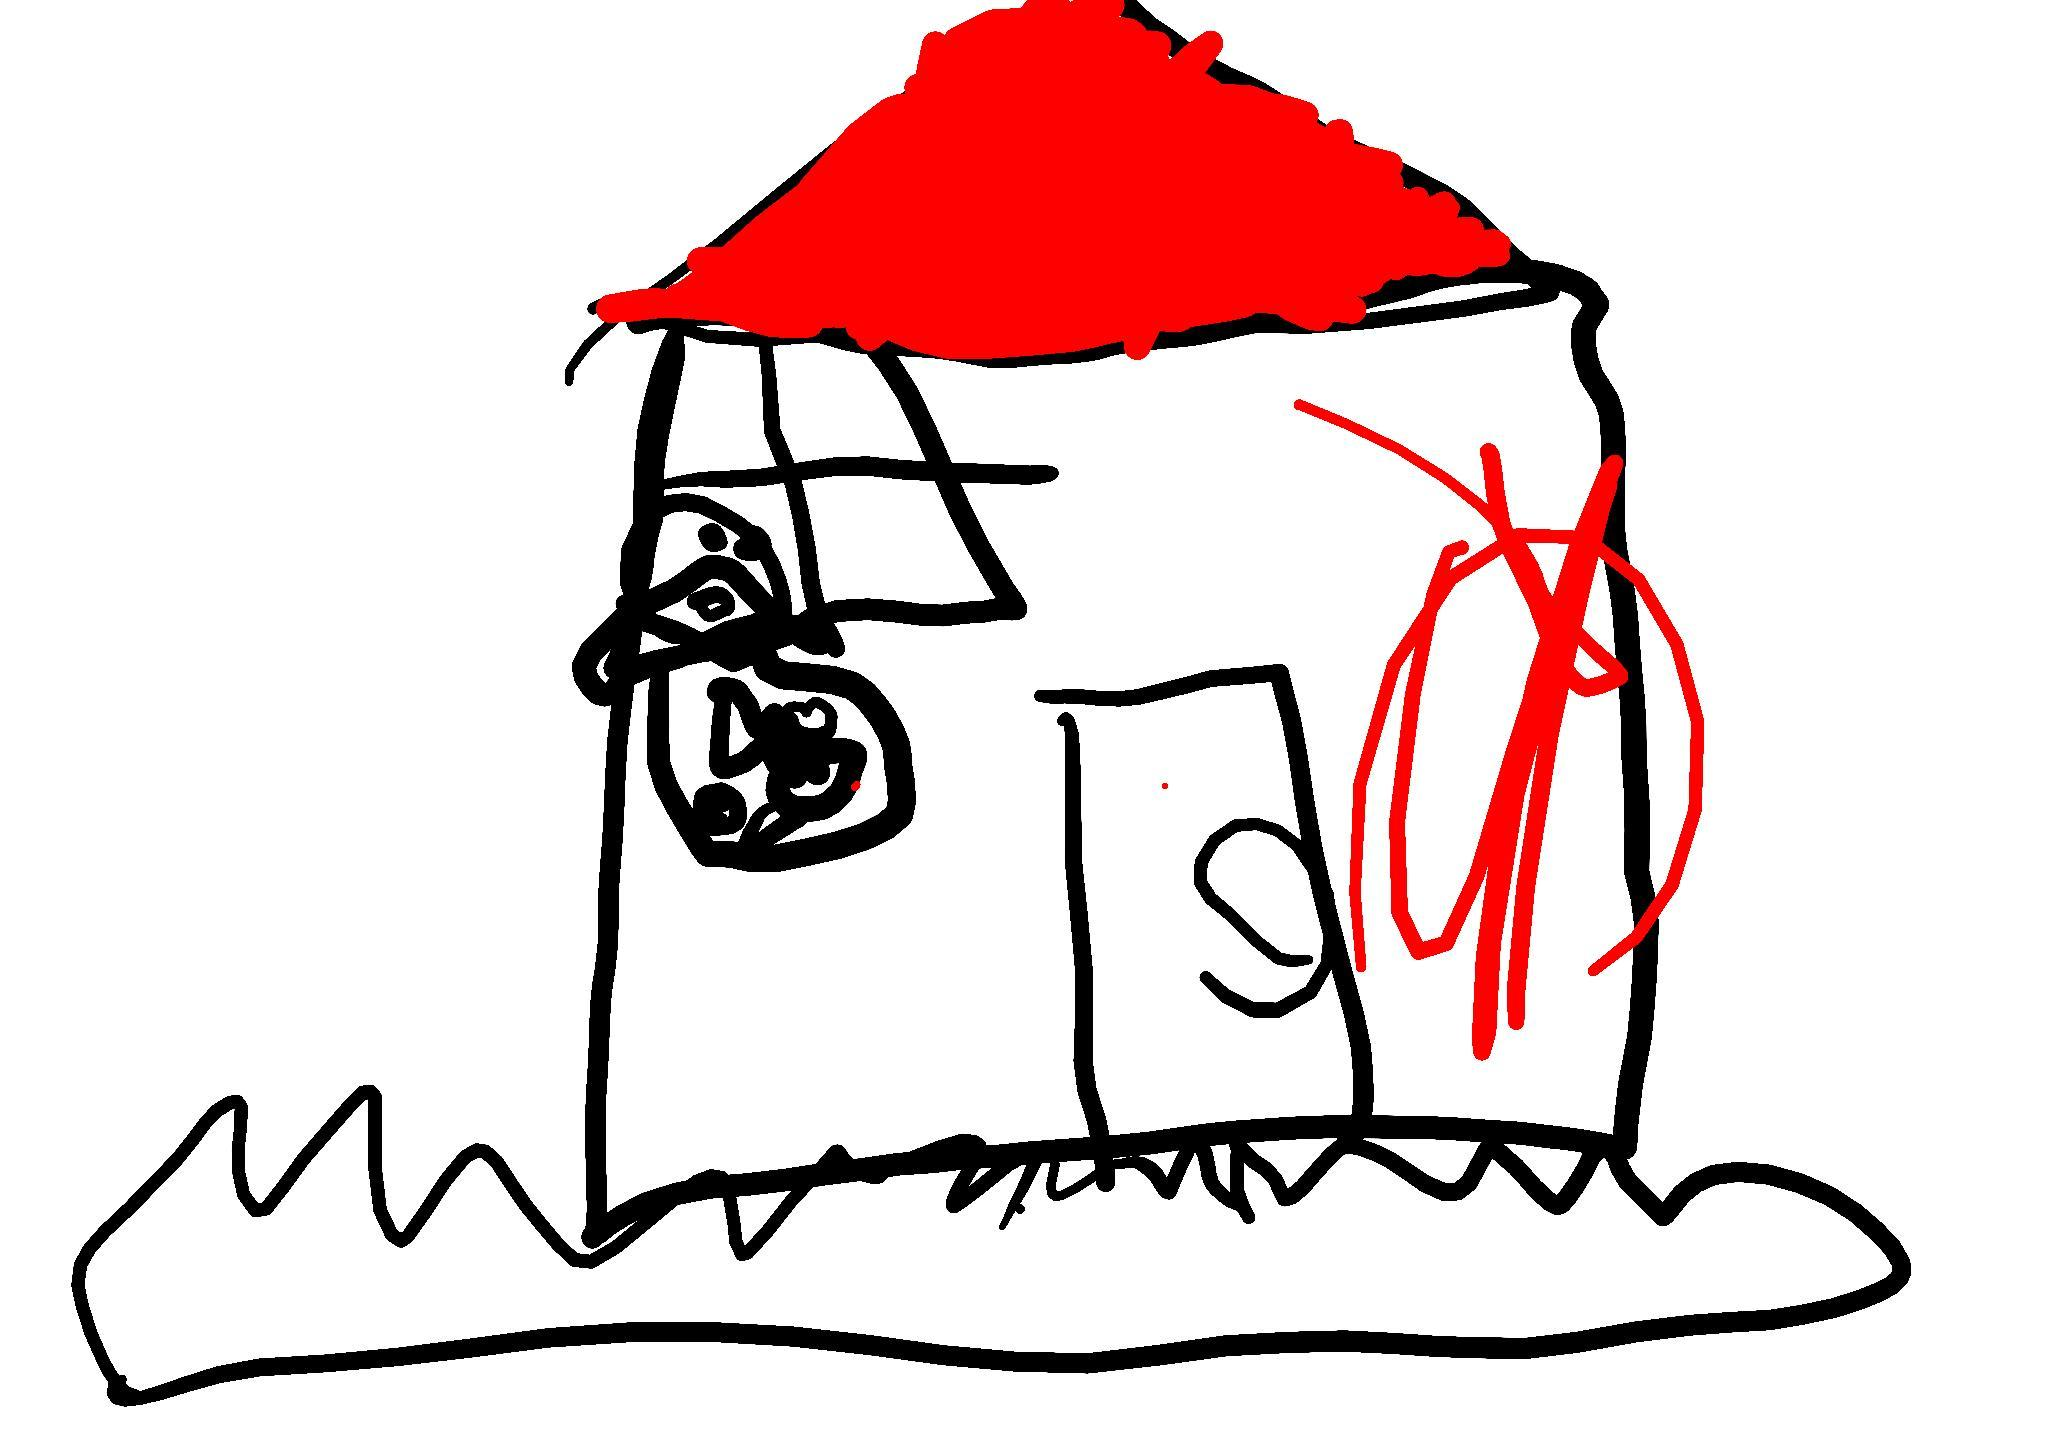door: (1052, 663, 1380, 1164)
house: (568, 2, 1676, 1270)
roof: (594, 0, 1513, 361)
wall: (582, 281, 1670, 1236)
window: (601, 336, 1030, 685)
